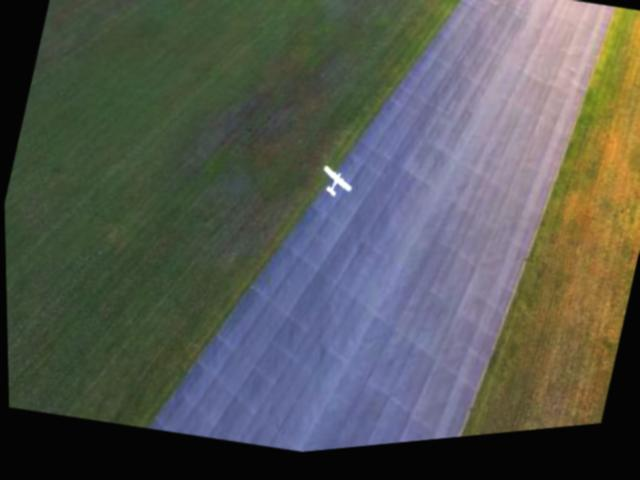uav: (314, 167, 357, 210)
